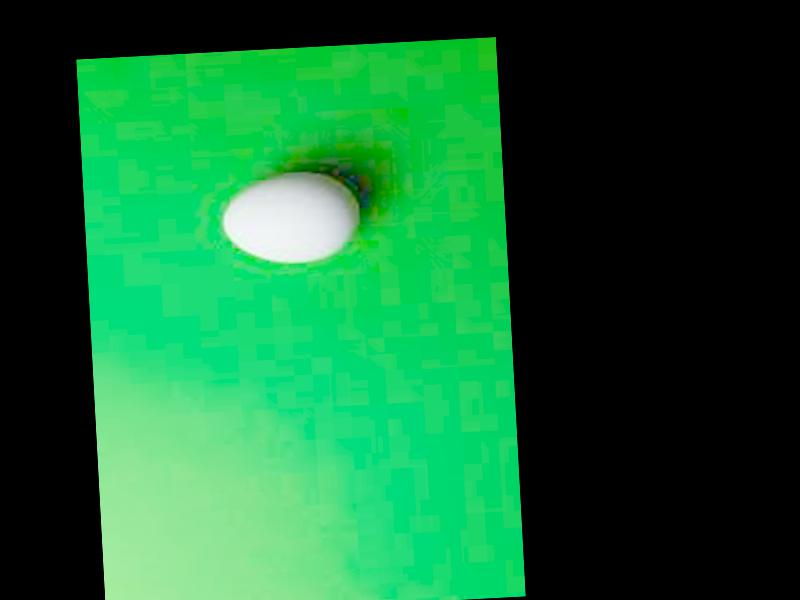Eggs: (220, 169, 361, 264)
